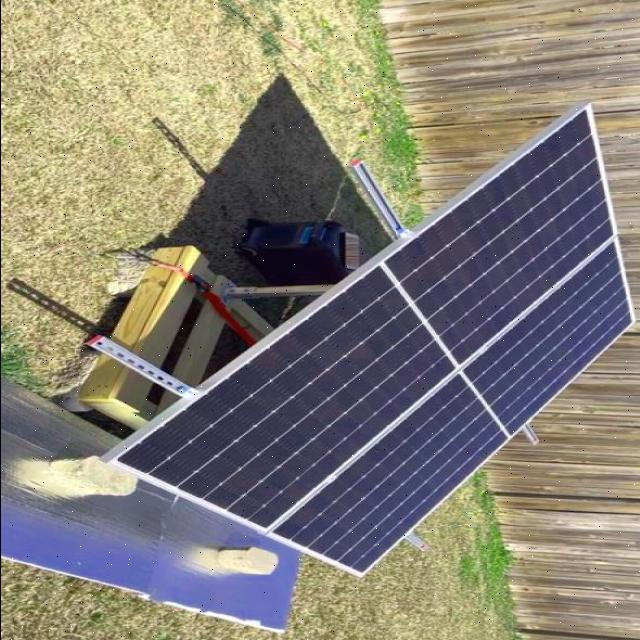Normal Solar Panel: (115, 105, 636, 579)
